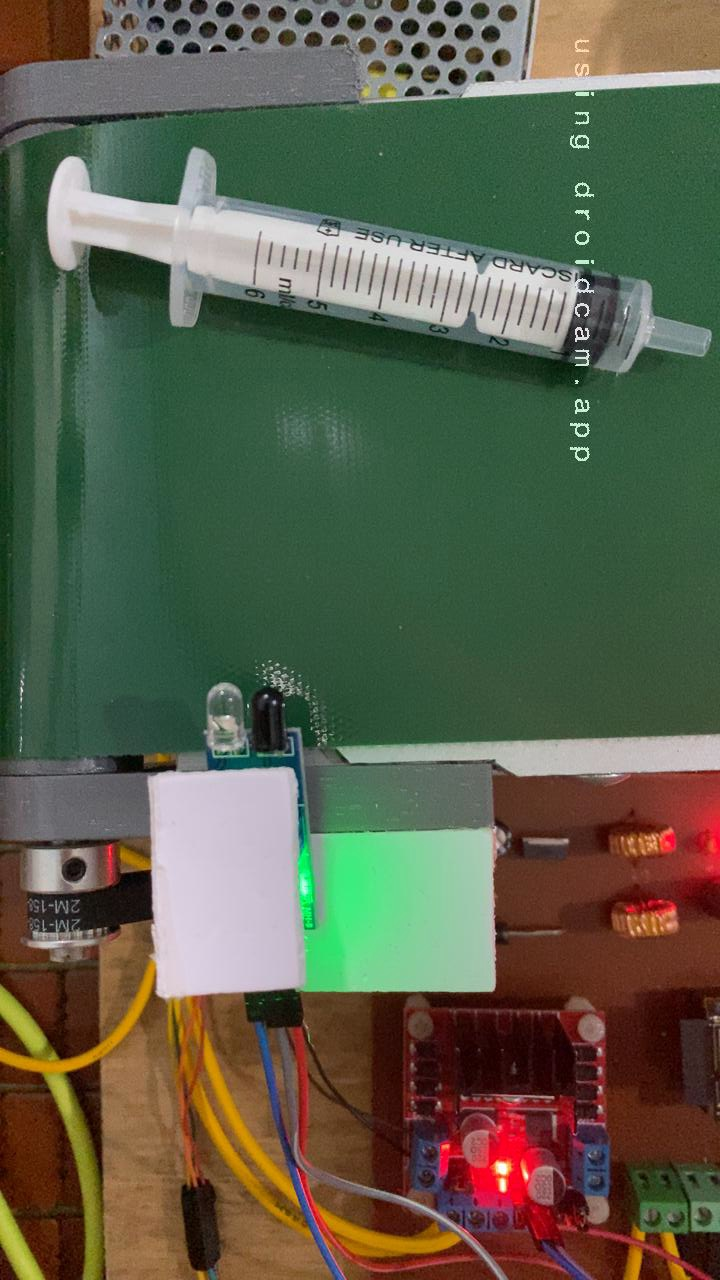syringe: (39, 141, 681, 381)
